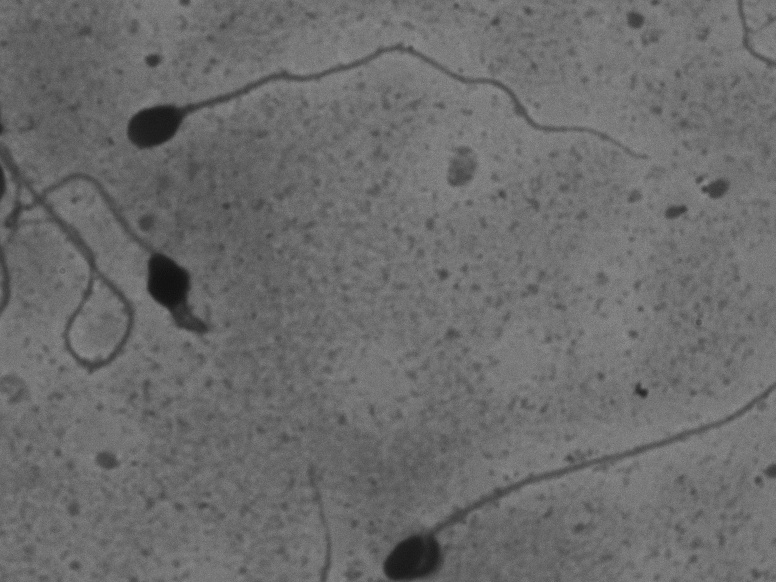Abnormal: (19, 161, 222, 387)
Normal: (99, 47, 668, 169)
